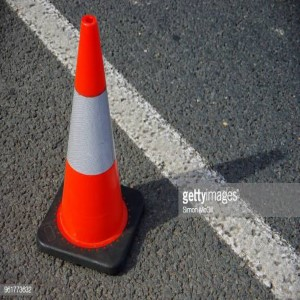traffic cone: (36, 15, 145, 276)
